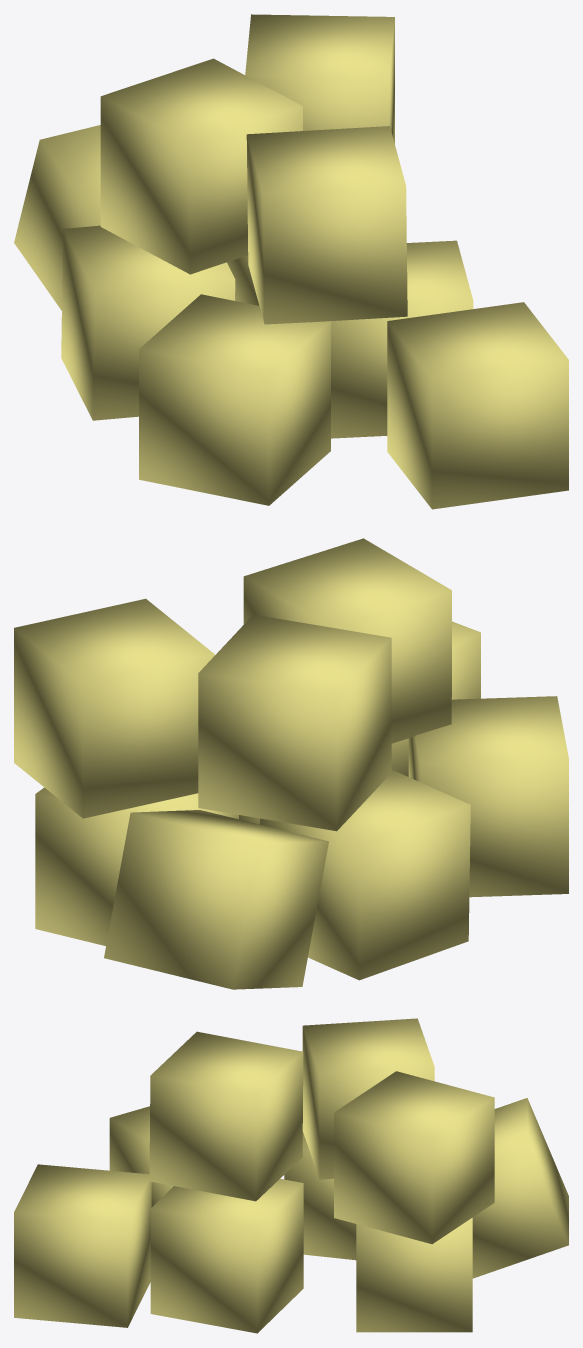
Rendered from LBSR_Cheese_cubes.fbx.
3 views of the same model, one above another, from view 1: azimuth 30°, elevation 25°; view 2: azimuth 150°, elevation 25°; view 3: azimuth 270°, elevation 25° (orthographic). The views are drawn at different scales.
Parts seen in each view (by area): view 1: Cheese Cube.006, Cheese Cube.003, Cheese Cube.008, Cheese Cube.007, Cheese Cube.005, Cheese Cube.001, Cheese Cube.002, Cheese Cube.004, Cheese Cube; view 2: Cheese Cube.007, Cheese Cube.001, Cheese Cube.004, Cheese Cube.005, Cheese Cube.006, Cheese Cube.008, Cheese Cube, Cheese Cube.003; view 3: Cheese Cube.001, Cheese Cube.008, Cheese Cube.003, Cheese Cube.002, Cheese Cube, Cheese Cube.004, Cheese Cube.007, Cheese Cube.005, Cheese Cube.006.
Boxes of the visible parts, bbox=[...] form: Cheese Cube.006: bbox=[139, 294, 330, 505]; Cheese Cube.003: bbox=[387, 302, 568, 509]; Cheese Cube.008: bbox=[246, 126, 407, 324]; Cheese Cube.007: bbox=[100, 58, 302, 274]; Cheese Cube.005: bbox=[61, 225, 235, 420]; Cheese Cube.001: bbox=[245, 14, 394, 143]; Cheese Cube.002: bbox=[331, 240, 473, 438]; Cheese Cube.004: bbox=[14, 125, 100, 310]; Cheese Cube: bbox=[227, 255, 259, 305]; Cheese Cube.007: bbox=[198, 614, 391, 831]; Cheese Cube.001: bbox=[14, 598, 214, 818]; Cheese Cube.004: bbox=[104, 810, 328, 989]; Cheese Cube.005: bbox=[260, 770, 470, 980]; Cheese Cube.006: bbox=[408, 696, 568, 897]; Cheese Cube.008: bbox=[243, 538, 451, 743]; Cheese Cube: bbox=[35, 787, 238, 945]; Cheese Cube.003: bbox=[391, 621, 480, 776]; Cheese Cube.001: bbox=[334, 1071, 494, 1244]; Cheese Cube.008: bbox=[149, 1031, 303, 1201]; Cheese Cube.003: bbox=[14, 1164, 151, 1327]; Cheese Cube.002: bbox=[150, 1178, 303, 1333]; Cheese Cube: bbox=[356, 1217, 472, 1332]; Cheese Cube.004: bbox=[472, 1098, 568, 1278]; Cheese Cube.007: bbox=[302, 1018, 434, 1179]; Cheese Cube.005: bbox=[284, 1131, 356, 1260]; Cheese Cube.006: bbox=[109, 1106, 173, 1207].
Bounding box in the file's own units: 0.1588 × 0.1016 × 0.2386.
